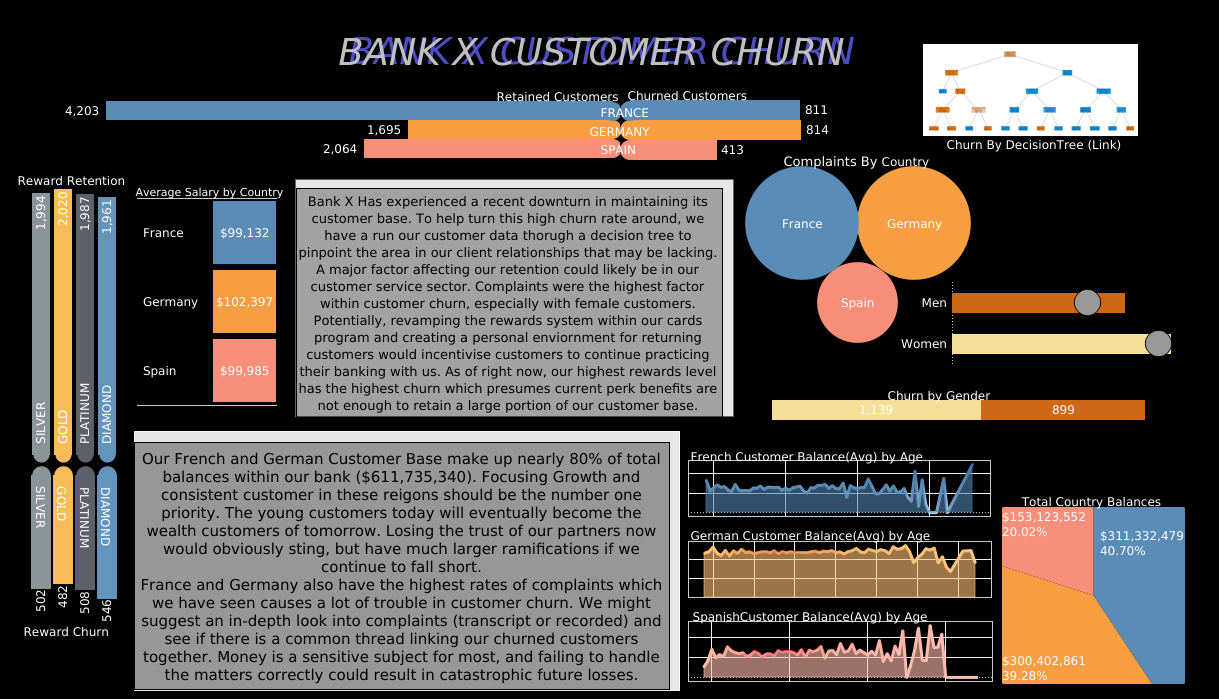

The dashboard page shown, as its layout file describes it:
{"tool":"tableau","page":{"name":"Dashboard 1","canvas":[1000,1000],"units":"permille","ordinal":0},"visuals":[{"type":"text","box":[283.6,1.3,422.9,141.2]},{"type":"text","box":[142.6,25.7,684.4,97.1]},{"type":"image","param":"Image/Screen Shot 2023-05-22 at 7.11.13 PM.png","box":[756.6,35.3,176.2,187.9]},{"type":"text","box":[512.3,117.3,104.1,37.8]},{"type":"text","box":[404.9,118.5,104.1,37.8]},{"type":"worksheet","title":"exit","mark":"Bar","rows":["Geography"],"cols":["Exited","Calculation_111675225694523394"],"box":[507.4,142.9,354.1,104.3]},{"type":"worksheet","title":"no exit","mark":"Bar","rows":["Geography"],"cols":["Exited","Calculation_111675225694826500"],"box":[47.5,144.3,460.7,147.1]},{"type":"text","box":[490.2,144.3,82,32.9]},{"type":"text","box":[481.2,172.9,82,30]},{"type":"text","box":[773.8,186.6,155.7,37.8]},{"type":"worksheet","title":"CountryComplain","mark":"Circle","box":[609.8,201.4,186.1,331.4]},{"type":"text","box":[490.2,203,82,20.2]},{"type":"text","box":[640.2,204.3,127.9,53]},{"type":"text","box":[12.3,238.3,91.8,37.8]},{"type":"worksheet","title":"Card:NoExit","mark":"Bar","rows":["Card Type","Calculation_111675225702084614"],"cols":["Card Type"],"box":[24.6,251.4,72.1,417.1]},{"type":"text","box":[109,254.7,136.1,37.8]},{"type":"blank","box":[241.8,255.7,359.8,340]},{"type":"blank","box":[242.6,268.6,350,328.6]},{"type":"text","box":[242.6,270,347.5,325.7]},{"type":"worksheet","title":"AVG.SALCount","mark":"Square","rows":["Geography"],"box":[112.3,282.5,123.8,303.9]},{"type":"worksheet","title":"GenComplain","mark":"Bar","rows":["Gender"],"cols":["Complain","Complain"],"box":[737.7,402.9,231.2,221.4]},{"type":"text","box":[725.4,546,91.8,37.8]},{"type":"worksheet","title":"Sheet 9","mark":"Automatic","cols":["Exited"],"box":[632.8,570,321.3,41.4]},{"type":"blank","box":[109.8,615.7,447.5,371.4]},{"type":"blank","box":[109.8,631.4,439.3,354.3]},{"type":"text","box":[563.9,631.8,198.4,39.1]},{"type":"text","box":[109.8,635.7,438.5,348.6]},{"type":"worksheet","title":"france Agebalance","mark":"Line","rows":["Balance","Balance"],"cols":["Age"],"box":[563.9,657.1,248.4,81.4]},{"type":"worksheet","title":"Card:Exit","mark":"Bar","rows":["Card Type","Calculation_111675225703034888"],"cols":["Card Type"],"box":[24.6,662.9,72.1,338.6]},{"type":"text","box":[833.6,697.4,122.1,37.8]},{"type":"worksheet","title":"Sheet 8","mark":"Pie","box":[821.3,724.3,150.8,254.3]},{"type":"text","box":[563.9,749.1,217.2,30.3]},{"type":"worksheet","title":"Germ Agebalance (2)","mark":"Line","rows":["Balance","Balance"],"cols":["Age"],"box":[563.9,772.9,249.2,81.4]},{"type":"text","box":[565.6,861.3,209.8,37.8]},{"type":"text","box":[17.2,882.7,82,37.8]},{"type":"worksheet","title":"Spain Agebalance (3)","mark":"Line","rows":["Balance","Balance"],"cols":["Age"],"box":[563.9,887.1,250,87.1]}]}

Visuals, with their boxes on the dashboard's canvas, which has no fixed pixel size, in thousandths of its width and height (x1, y1, x2, y2). These are canvas units, not pixel positions in the 1219x699 screenshot, which may show the page scaled, cropped or inside an application window:
text: bbox=(284, 1, 706, 142)
text: bbox=(143, 26, 827, 123)
image: bbox=(757, 35, 933, 223)
text: bbox=(512, 117, 616, 155)
text: bbox=(405, 118, 509, 156)
"exit" worksheet (Bar marks): bbox=(507, 143, 862, 247)
"no exit" worksheet (Bar marks): bbox=(48, 144, 508, 291)
text: bbox=(490, 144, 572, 177)
text: bbox=(481, 173, 563, 203)
text: bbox=(774, 187, 930, 224)
"CountryComplain" worksheet (Circle marks): bbox=(610, 201, 796, 533)
text: bbox=(490, 203, 572, 223)
text: bbox=(640, 204, 768, 257)
text: bbox=(12, 238, 104, 276)
"Card:NoExit" worksheet (Bar marks): bbox=(25, 251, 97, 668)
text: bbox=(109, 255, 245, 292)
blank: bbox=(242, 256, 602, 596)
blank: bbox=(243, 269, 593, 597)
text: bbox=(243, 270, 590, 596)
"AVG.SALCount" worksheet (Square marks): bbox=(112, 282, 236, 586)
"GenComplain" worksheet (Bar marks): bbox=(738, 403, 969, 624)
text: bbox=(725, 546, 817, 584)
"Sheet 9" worksheet: bbox=(633, 570, 954, 611)
blank: bbox=(110, 616, 557, 987)
blank: bbox=(110, 631, 549, 986)
text: bbox=(564, 632, 762, 671)
text: bbox=(110, 636, 548, 984)
"france Agebalance" worksheet (Line marks): bbox=(564, 657, 812, 738)
"Card:Exit" worksheet (Bar marks): bbox=(25, 663, 97, 1002)
text: bbox=(834, 697, 956, 735)
"Sheet 8" worksheet (Pie marks): bbox=(821, 724, 972, 979)
text: bbox=(564, 749, 781, 779)
"Germ Agebalance (2)" worksheet (Line marks): bbox=(564, 773, 813, 854)
text: bbox=(566, 861, 775, 899)
text: bbox=(17, 883, 99, 920)
"Spain Agebalance (3)" worksheet (Line marks): bbox=(564, 887, 814, 974)
